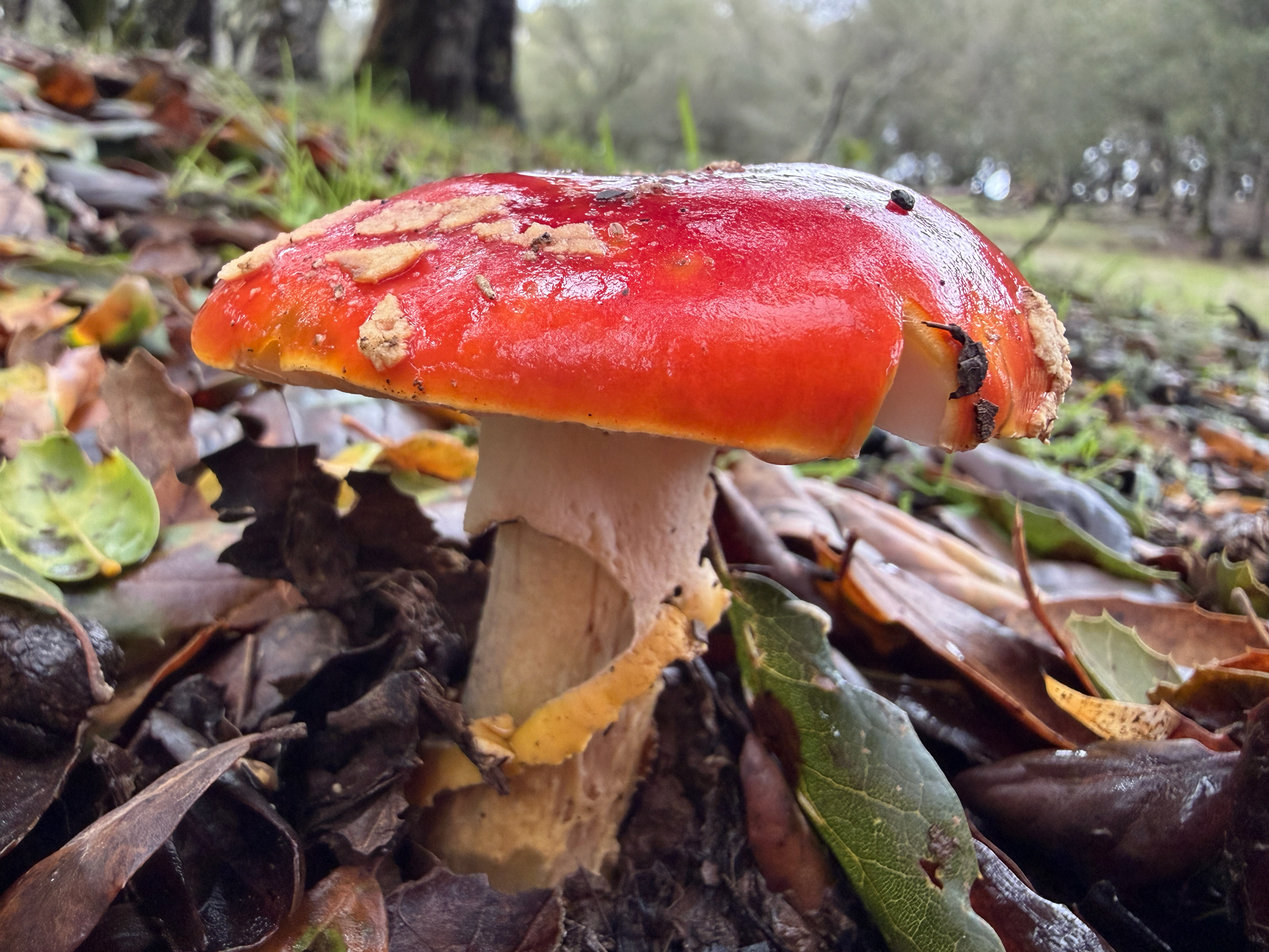cap: (191, 164, 1069, 462)
stem: (424, 416, 729, 887)
